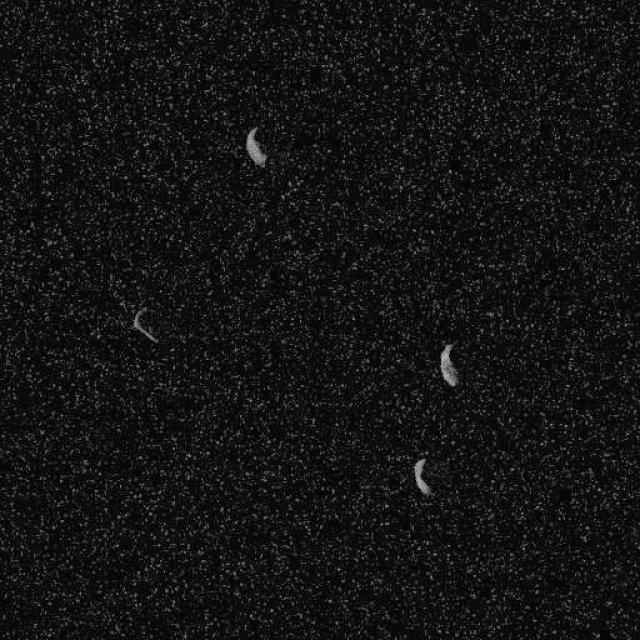D2: (132, 306, 160, 344), (244, 125, 268, 167), (439, 342, 459, 386), (412, 458, 432, 497)
